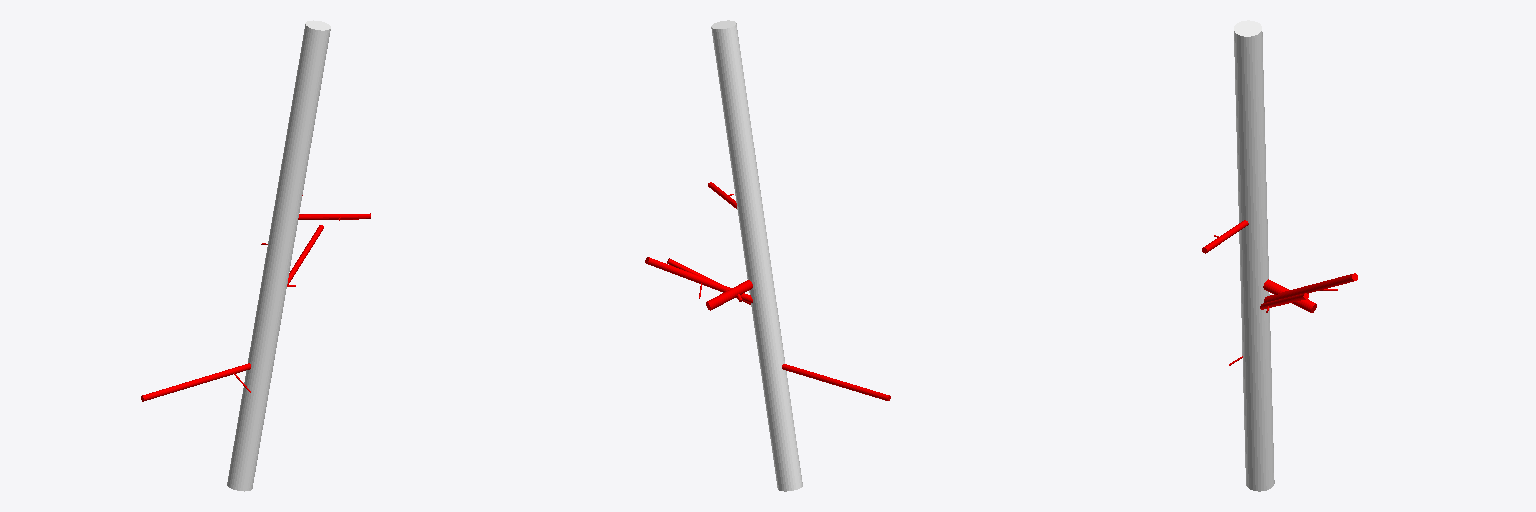
URDF robot description (tree_146.urdf):
<?xml version='1.0' encoding='UTF-8'?>
<robot name="tree_146.urdf">
  <link name="branch_0">
    <inertial>
      <origin xyz="0.0 0.0 0.0" rpy="0.0 -0.0 0.0"/>
      <mass value="0.1"/>
      <inertia ixx="0.001" ixy="0.0" ixz="0.0" iyy="0.001" iyz="0.0" izz="0.001"/>
    </inertial>
    <visual name="branch_0_visual">
      <geometry>
        <cylinder radius="0.17357356870402685" length="6.692169366197497"/>
      </geometry>
      <material name="branch_material"/>
      <origin xyz="0.5628836106782151 -0.0736972194279884 3.297576908450581" rpy="-6.880174032856857e-18 0.1704818968898608 -0.13018746259132843"/>
    </visual>
    <collision name="branch_0_collision">
      <geometry>
        <cylinder radius="0.17357356870402685" length="6.692169366197497"/>
      </geometry>
      <origin xyz="0.5628836106782151 -0.0736972194279884 3.297576908450581" rpy="-6.880174032856857e-18 0.1704818968898608 -0.13018746259132843"/>
    </collision>
  </link>
  <link name="branch_1">
    <inertial>
      <origin xyz="0.0 0.0 0.0" rpy="0.0 -0.0 0.0"/>
      <mass value="0.1"/>
      <inertia ixx="0.001" ixy="0.0" ixz="0.0" iyy="0.001" iyz="0.0" izz="0.001"/>
    </inertial>
    <visual name="branch_1_visual">
      <geometry>
        <cylinder radius="0.06680713323840985" length="0.8488475897242628"/>
      </geometry>
      <material name="semantic_material"/>
      <origin xyz="0.0 0.0 0.0" rpy="0.0 -0.0 0.0"/>
    </visual>
    <collision name="branch_1_collision">
      <geometry>
        <cylinder radius="0.06680713323840985" length="0.8488475897242628"/>
      </geometry>
      <origin xyz="0.0 0.0 0.0" rpy="0.0 -0.0 0.0"/>
    </collision>
  </link>
  <link name="branch_2">
    <inertial>
      <origin xyz="0.0 0.0 0.0" rpy="0.0 -0.0 0.0"/>
      <mass value="0.1"/>
      <inertia ixx="0.001" ixy="0.0" ixz="0.0" iyy="0.001" iyz="0.0" izz="0.001"/>
    </inertial>
    <visual name="branch_2_visual">
      <geometry>
        <cylinder radius="0.02495125288137623" length="0.16797245363375662"/>
      </geometry>
      <material name="semantic_material"/>
      <origin xyz="0.0 0.0 0.0" rpy="0.0 -0.0 0.0"/>
    </visual>
    <collision name="branch_2_collision">
      <geometry>
        <cylinder radius="0.02495125288137623" length="0.16797245363375662"/>
      </geometry>
      <origin xyz="0.0 0.0 0.0" rpy="0.0 -0.0 0.0"/>
    </collision>
  </link>
  <link name="branch_3">
    <inertial>
      <origin xyz="0.0 0.0 0.0" rpy="0.0 -0.0 0.0"/>
      <mass value="0.1"/>
      <inertia ixx="0.001" ixy="0.0" ixz="0.0" iyy="0.001" iyz="0.0" izz="0.001"/>
    </inertial>
    <visual name="branch_3_visual">
      <geometry>
        <cylinder radius="0.03915869073700024" length="1.144670630556925"/>
      </geometry>
      <material name="semantic_material"/>
      <origin xyz="0.0 0.0 0.0" rpy="0.0 -0.0 0.0"/>
    </visual>
    <collision name="branch_3_collision">
      <geometry>
        <cylinder radius="0.03915869073700024" length="1.144670630556925"/>
      </geometry>
      <origin xyz="0.0 0.0 0.0" rpy="0.0 -0.0 0.0"/>
    </collision>
  </link>
  <link name="branch_4">
    <inertial>
      <origin xyz="0.0 0.0 0.0" rpy="0.0 -0.0 0.0"/>
      <mass value="0.1"/>
      <inertia ixx="0.001" ixy="0.0" ixz="0.0" iyy="0.001" iyz="0.0" izz="0.001"/>
    </inertial>
    <visual name="branch_4_visual">
      <geometry>
        <cylinder radius="0.01" length="0.12107080860131446"/>
      </geometry>
      <material name="semantic_material"/>
      <origin xyz="0.0 0.0 0.0" rpy="0.0 -0.0 0.0"/>
    </visual>
    <collision name="branch_4_collision">
      <geometry>
        <cylinder radius="0.01" length="0.12107080860131446"/>
      </geometry>
      <origin xyz="0.0 0.0 0.0" rpy="0.0 -0.0 0.0"/>
    </collision>
  </link>
  <link name="branch_5">
    <inertial>
      <origin xyz="0.0 0.0 0.0" rpy="0.0 -0.0 0.0"/>
      <mass value="0.1"/>
      <inertia ixx="0.001" ixy="0.0" ixz="0.0" iyy="0.001" iyz="0.0" izz="0.001"/>
    </inertial>
    <visual name="branch_5_visual">
      <geometry>
        <cylinder radius="0.04128557907997166" length="1.83307666912502"/>
      </geometry>
      <material name="semantic_material"/>
      <origin xyz="0.0 0.0 0.0" rpy="0.0 -0.0 0.0"/>
    </visual>
    <collision name="branch_5_collision">
      <geometry>
        <cylinder radius="0.04128557907997166" length="1.83307666912502"/>
      </geometry>
      <origin xyz="0.0 0.0 0.0" rpy="0.0 -0.0 0.0"/>
    </collision>
  </link>
  <link name="branch_6">
    <inertial>
      <origin xyz="0.0 0.0 0.0" rpy="0.0 -0.0 0.0"/>
      <mass value="0.1"/>
      <inertia ixx="0.001" ixy="0.0" ixz="0.0" iyy="0.001" iyz="0.0" izz="0.001"/>
    </inertial>
    <visual name="branch_6_visual">
      <geometry>
        <cylinder radius="0.011184075596625372" length="0.4042735034573704"/>
      </geometry>
      <material name="semantic_material"/>
      <origin xyz="0.0 0.0 0.0" rpy="0.0 -0.0 0.0"/>
    </visual>
    <collision name="branch_6_collision">
      <geometry>
        <cylinder radius="0.011184075596625372" length="0.4042735034573704"/>
      </geometry>
      <origin xyz="0.0 0.0 0.0" rpy="0.0 -0.0 0.0"/>
    </collision>
  </link>
  <link name="branch_7">
    <inertial>
      <origin xyz="0.0 0.0 0.0" rpy="0.0 -0.0 0.0"/>
      <mass value="0.1"/>
      <inertia ixx="0.001" ixy="0.0" ixz="0.0" iyy="0.001" iyz="0.0" izz="0.001"/>
    </inertial>
    <visual name="branch_7_visual">
      <geometry>
        <cylinder radius="0.03714112562651301" length="1.4858264245156954"/>
      </geometry>
      <material name="semantic_material"/>
      <origin xyz="0.0 0.0 0.0" rpy="0.0 -0.0 0.0"/>
    </visual>
    <collision name="branch_7_collision">
      <geometry>
        <cylinder radius="0.03714112562651301" length="1.4858264245156954"/>
      </geometry>
      <origin xyz="0.0 0.0 0.0" rpy="0.0 -0.0 0.0"/>
    </collision>
  </link>
  <link name="branch_8">
    <inertial>
      <origin xyz="0.0 0.0 0.0" rpy="0.0 -0.0 0.0"/>
      <mass value="0.1"/>
      <inertia ixx="0.001" ixy="0.0" ixz="0.0" iyy="0.001" iyz="0.0" izz="0.001"/>
    </inertial>
    <visual name="branch_8_visual">
      <geometry>
        <cylinder radius="0.011947344611955905" length="0.16036376234354976"/>
      </geometry>
      <material name="semantic_material"/>
      <origin xyz="0.0 0.0 0.0" rpy="0.0 -0.0 0.0"/>
    </visual>
    <collision name="branch_8_collision">
      <geometry>
        <cylinder radius="0.011947344611955905" length="0.16036376234354976"/>
      </geometry>
      <origin xyz="0.0 0.0 0.0" rpy="0.0 -0.0 0.0"/>
    </collision>
  </link>
  <link name="branch_9">
    <inertial>
      <origin xyz="0.0 0.0 0.0" rpy="0.0 -0.0 0.0"/>
      <mass value="0.1"/>
      <inertia ixx="0.001" ixy="0.0" ixz="0.0" iyy="0.001" iyz="0.0" izz="0.001"/>
    </inertial>
    <visual name="branch_9_visual">
      <geometry>
        <cylinder radius="0.047695612786908065" length="1.8759799254840717"/>
      </geometry>
      <material name="semantic_material"/>
      <origin xyz="0.0 0.0 0.0" rpy="0.0 -0.0 0.0"/>
    </visual>
    <collision name="branch_9_collision">
      <geometry>
        <cylinder radius="0.047695612786908065" length="1.8759799254840717"/>
      </geometry>
      <origin xyz="0.0 0.0 0.0" rpy="0.0 -0.0 0.0"/>
    </collision>
  </link>
  <link name="branch_10">
    <inertial>
      <origin xyz="0.0 0.0 0.0" rpy="0.0 -0.0 0.0"/>
      <mass value="0.1"/>
      <inertia ixx="0.001" ixy="0.0" ixz="0.0" iyy="0.001" iyz="0.0" izz="0.001"/>
    </inertial>
    <visual name="branch_10_visual">
      <geometry>
        <cylinder radius="0.011088031095774588" length="0.40289573300295684"/>
      </geometry>
      <material name="semantic_material"/>
      <origin xyz="0.0 0.0 0.0" rpy="0.0 -0.0 0.0"/>
    </visual>
    <collision name="branch_10_collision">
      <geometry>
        <cylinder radius="0.011088031095774588" length="0.40289573300295684"/>
      </geometry>
      <origin xyz="0.0 0.0 0.0" rpy="0.0 -0.0 0.0"/>
    </collision>
  </link>
  <joint name="joint_0_1" type="fixed">
    <parent link="branch_0"/>
    <child link="branch_1"/>
    <axis xyz="1. 0. 0."/>
    <origin xyz="0.7063232984607616 0.29288827890517216 2.8626449609196327" rpy="2.5852535543512616 1.2720017763722034 -2.6547458434000144"/>
  </joint>
  <joint name="joint_0_3" type="fixed">
    <parent link="branch_0"/>
    <child link="branch_3"/>
    <axis xyz="1. 0. 0."/>
    <origin xyz="1.148428011733891 -0.3792131903843343 3.860584271815103" rpy="-1.285153322217919 1.499525860815472 -1.8237854135255582"/>
  </joint>
  <joint name="joint_0_5" type="fixed">
    <parent link="branch_0"/>
    <child link="branch_5"/>
    <axis xyz="1. 0. 0."/>
    <origin xyz="-0.6134490741805655 -0.03931258454237852 1.7164001828648907" rpy="-2.756410306552471 1.5108164262297503 0.38560733262897423"/>
  </joint>
  <joint name="joint_0_7" type="fixed">
    <parent link="branch_0"/>
    <child link="branch_7"/>
    <axis xyz="1. 0. 0."/>
    <origin xyz="1.0116424549198824 0.24992321557435773 2.8889823083735044" rpy="0.22265808722997207 1.064879136289668 0.7407270379756419"/>
  </joint>
  <joint name="joint_0_9" type="fixed">
    <parent link="branch_0"/>
    <child link="branch_9"/>
    <axis xyz="1. 0. 0."/>
    <origin xyz="1.013528263364814 0.5444323594532376 3.049673115388939" rpy="0.3005073264043408 1.0571914184278226 1.1568134318859693"/>
  </joint>
  <joint name="joint_1_2" type="fixed">
    <parent link="branch_0"/>
    <child link="branch_2"/>
    <axis xyz="1. 0. 0."/>
    <origin xyz="0.629325875656366 0.3056829271340749 2.830800362371821" rpy="2.0766793359125955 -0.16350161060538812 -2.24900365872208"/>
  </joint>
  <joint name="joint_3_4" type="fixed">
    <parent link="branch_0"/>
    <child link="branch_4"/>
    <axis xyz="1. 0. 0."/>
    <origin xyz="1.2490500253207393 -0.5088228900532125 3.868373465441392" rpy="-1.4955335842194901 0.030942364469055315 2.462978256888516"/>
  </joint>
  <joint name="joint_5_6" type="fixed">
    <parent link="branch_0"/>
    <child link="branch_6"/>
    <axis xyz="1. 0. 0."/>
    <origin xyz="-0.0940516033691487 -0.21121740005736325 1.6455428227549393" rpy="2.0794359351141307 -0.14858771158639683 0.1637937981955511"/>
  </joint>
  <joint name="joint_7_8" type="fixed">
    <parent link="branch_0"/>
    <child link="branch_8"/>
    <axis xyz="1. 0. 0."/>
    <origin xyz="0.8293793844668583 0.09681344233797849 2.71996163209047" rpy="-1.7667642586345718 0.7836503175715804 -1.90214561408337"/>
  </joint>
  <joint name="joint_9_10" type="fixed">
    <parent link="branch_0"/>
    <child link="branch_10"/>
    <axis xyz="1. 0. 0."/>
    <origin xyz="0.9646983033910186 0.7588818399110671 3.0331602308812418" rpy="1.8223010555264638 0.5585613110013431 -2.5745837251307613"/>
  </joint>
  <material name="branch_material">
    <color rgba="1. 1. 1. 1."/>
  </material>
  <material name="semantic_material">
    <color rgba="1. 0. 0. 1."/>
  </material>
</robot>

--- Render facts (derived) ---
3 views of the same robot in one strip: view 1: azimuth 30°, elevation 25°; view 2: azimuth 150°, elevation 25°; view 3: azimuth 270°, elevation 25° (orthographic).
Model tree_146.urdf with 11 links and 10 joints (10 fixed), rooted at branch_0, posed every joint at zero.
Links seen in each view (by area): view 1: branch_0, branch_5; view 2: branch_0, branch_9, branch_5; view 3: branch_0, branch_9.
Link boxes in pixels (x1,y1,x2,y2): branch_0: (227,20,330,491); branch_5: (141,363,250,401); branch_0: (711,20,802,491); branch_9: (645,257,752,302); branch_5: (782,364,890,400); branch_0: (1234,20,1274,491); branch_9: (1264,273,1357,302).
Size in the robot's own frame: 3.19 by 1.89 by 6.65 metres.
Geometry: primitives only (box / cylinder / sphere), no mesh files.